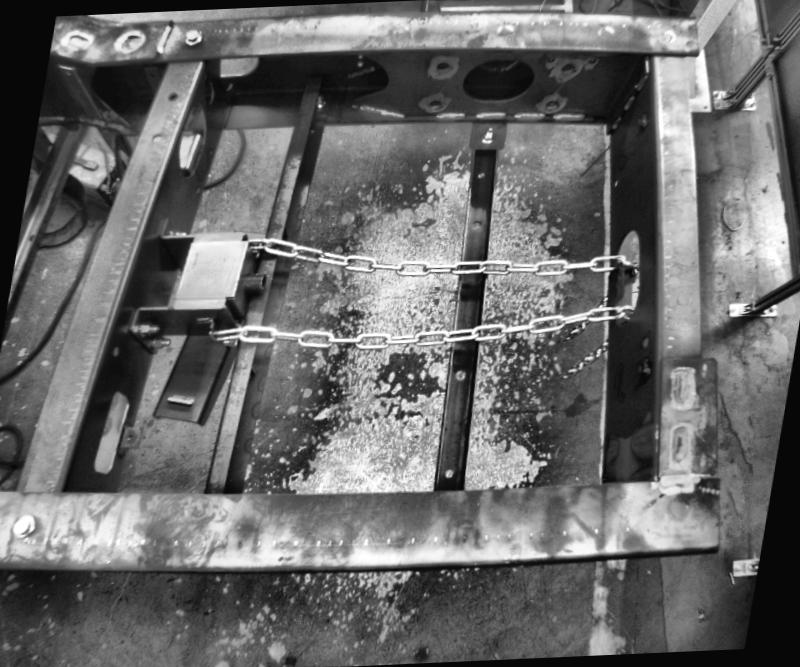bolt: (178, 21, 207, 48), (134, 319, 161, 337), (636, 358, 657, 380), (148, 334, 170, 350), (310, 92, 331, 108), (481, 122, 495, 142), (168, 225, 186, 240), (639, 113, 649, 128)
bracket: (604, 256, 632, 305), (114, 423, 142, 456)
hole: (456, 53, 542, 105), (93, 383, 129, 482), (174, 101, 207, 184), (431, 56, 454, 74), (428, 96, 444, 111), (560, 62, 576, 76), (545, 97, 561, 109), (454, 368, 467, 382), (444, 468, 456, 481), (110, 343, 121, 357), (470, 218, 482, 230), (640, 336, 652, 348), (149, 132, 161, 143), (166, 89, 177, 100), (125, 432, 136, 440), (477, 170, 486, 178)
welding: (607, 112, 624, 128), (636, 71, 650, 89), (621, 96, 637, 108)
